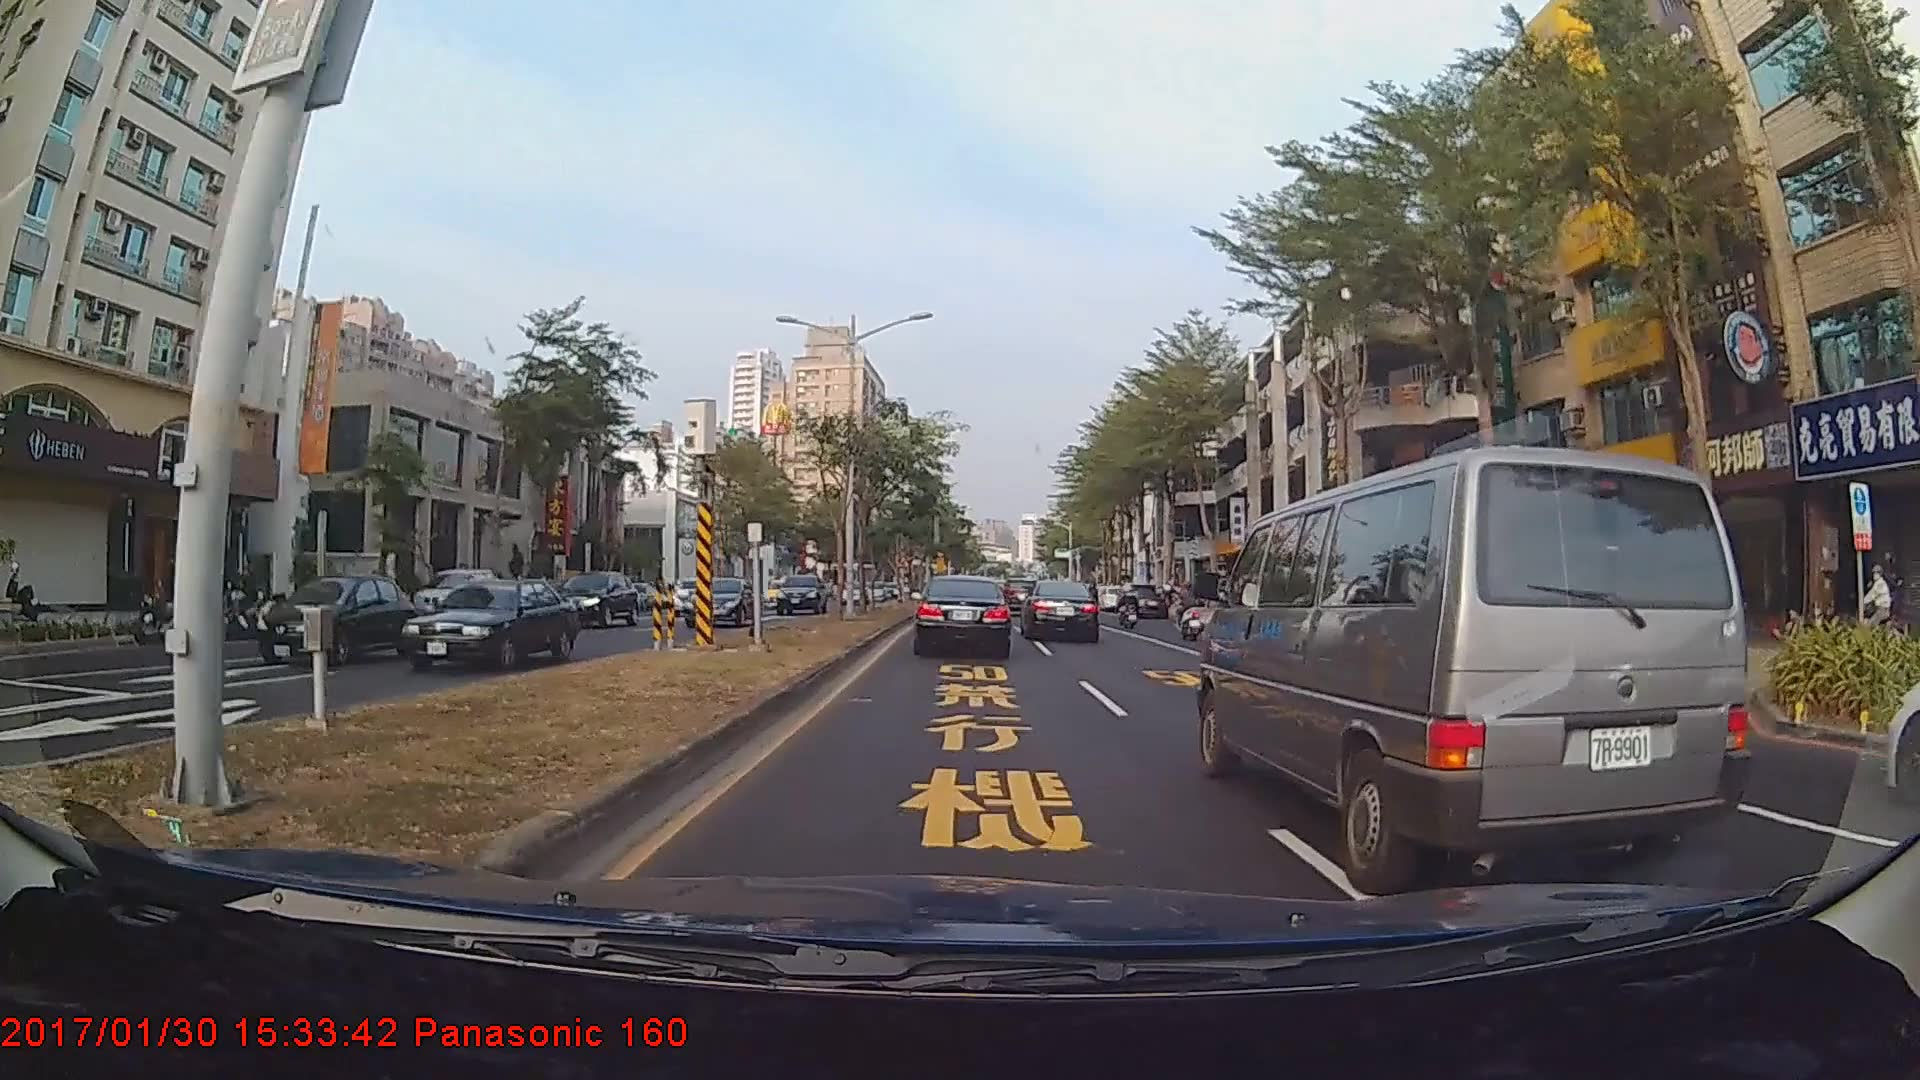rider: (1169, 580, 1215, 644)
vehicle: (1201, 433, 1745, 886), (398, 574, 578, 668), (253, 575, 420, 668), (914, 574, 1012, 657), (549, 571, 641, 630), (1019, 578, 1102, 643), (412, 570, 500, 621), (680, 574, 757, 627), (775, 574, 825, 615)
